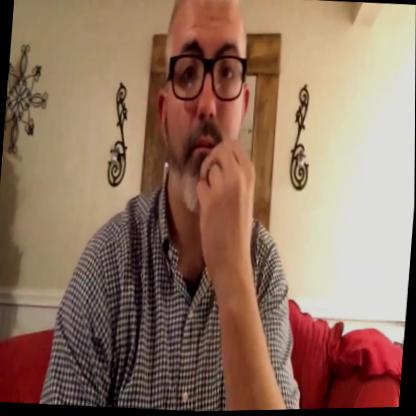Food: (145, 0, 283, 324)
